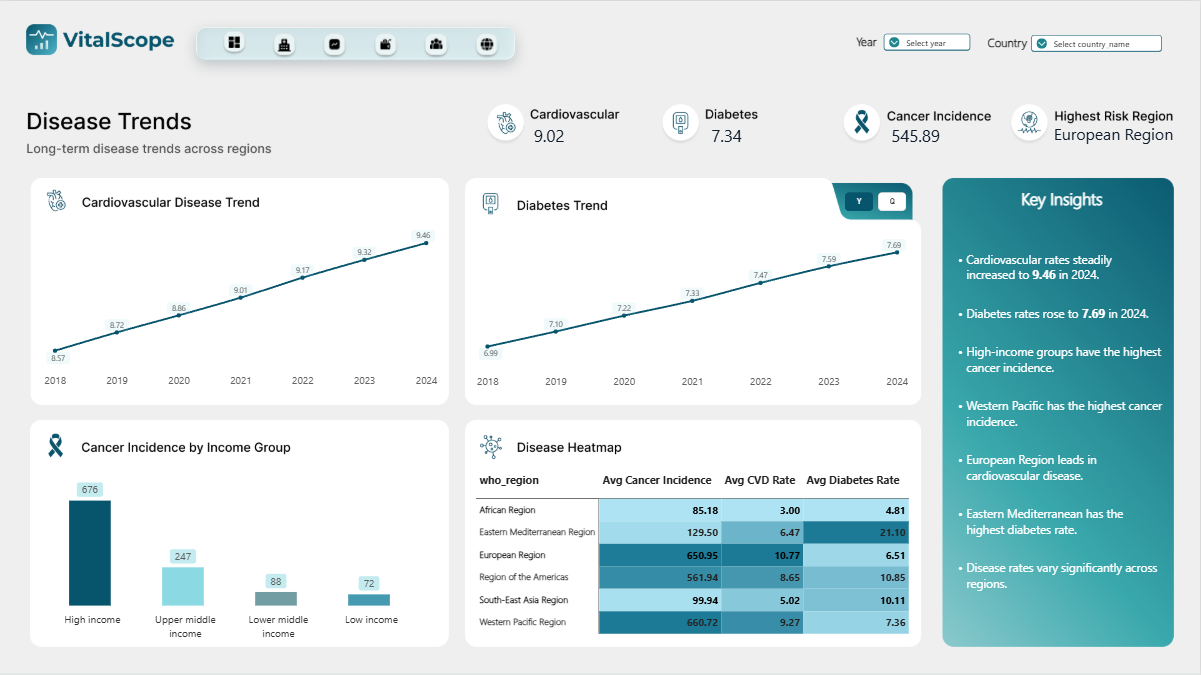

What the dashboard file says about the page in this screenshot:
{"tool":"powerbi","page":{"name":"Disease Trends","canvas":[1920,1080],"ordinal":5},"visuals":[{"type":"actionButton","box":[358.8,48.9,33.8,33.1],"z":0},{"type":"actionButton","box":[438,50,34,34],"z":1},{"type":"actionButton","box":[518.9,51,34,34],"z":2},{"type":"actionButton","box":[600.6,51,34,34],"z":3},{"type":"actionButton","box":[680.5,51,35.7,34],"z":4},{"type":"actionButton","box":[762.2,51,34,34],"z":5},{"type":"listSlicer","fields":{"Values":["dim_country.country_name"]},"box":[1634.7,40.8,240.8,71],"z":6},{"type":"textbox","box":[1580,53.3,70,25],"z":7},{"type":"textbox","box":[1370.2,52.6,57.9,38.6],"z":8},{"type":"listSlicer","fields":{"Values":["dim_date.year"]},"box":[1398.2,38.6,170.2,70.2],"z":9},{"type":"advancedSlicerVisual","fields":{"Values":["trends.trends"]},"box":[1352,306,98,30],"z":10},{"type":"cardVisual","fields":{"Data":["_Measures.Avg CVD Rate"]},"box":[838.8,196.2,148.8,38.8],"z":11},{"type":"cardVisual","fields":{"Data":["_Measures.Avg Diabetes Rate"]},"box":[1121.2,196.2,148.8,38.8],"z":12},{"type":"cardVisual","fields":{"Data":["_Measures.Avg Cancer Incidence"]},"box":[1410,196.2,148.8,38.8],"z":13},{"type":"cardVisual","fields":{"Data":["_Measures.Highest Risk Region"]},"box":[1670,194,234,38],"z":14},{"type":"textbox","box":[1518,382,342,630],"z":15},{"type":"textbox","box":[1633.2,297.5,189.3,114.3],"z":16},{"type":"lineChart","fields":{"Category":["dim_date.year"],"Y":["_Measures.Avg CVD Rate"]},"box":[54,336,662,304],"z":17},{"type":"lineChart","fields":{"Category":["dim_date.year"],"Y":["_Measures.Avg Diabetes Rate"]},"box":[746.7,355,723.3,285],"z":18},{"type":"columnChart","fields":{"Category":["dim_country.income_group"],"Y":["_Measures.Avg Cancer Incidence"]},"box":[0,742,707.1,299],"z":19},{"type":"pivotTable","fields":{"Rows":["dim_country.who_region"],"Values":["_Measures.Avg Cancer Incidence","_Measures.Avg CVD Rate","_Measures.Avg Diabetes Rate"]},"box":[746,734,724.8,306],"z":20}]}

Visuals, with their boxes in screenshot pixels (x1, y1, x2, y2), scaled from the page's 1920x1080 canvas onto the 1201x675 screenshot:
actionButton: [left=224, top=31, right=246, bottom=51]
actionButton: [left=274, top=31, right=295, bottom=52]
actionButton: [left=325, top=32, right=346, bottom=53]
actionButton: [left=376, top=32, right=397, bottom=53]
actionButton: [left=426, top=32, right=448, bottom=53]
actionButton: [left=477, top=32, right=498, bottom=53]
listSlicer - dim_country.country_name: [left=1023, top=26, right=1173, bottom=70]
textbox: [left=988, top=33, right=1032, bottom=49]
textbox: [left=857, top=33, right=893, bottom=57]
listSlicer - dim_date.year: [left=875, top=24, right=981, bottom=68]
advancedSlicerVisual - trends.trends: [left=846, top=191, right=907, bottom=210]
cardVisual - _Measures.Avg CVD Rate: [left=525, top=123, right=618, bottom=147]
cardVisual - _Measures.Avg Diabetes Rate: [left=701, top=123, right=794, bottom=147]
cardVisual - _Measures.Avg Cancer Incidence: [left=882, top=123, right=975, bottom=147]
cardVisual - _Measures.Highest Risk Region: [left=1045, top=121, right=1191, bottom=145]
textbox: [left=950, top=239, right=1163, bottom=632]
textbox: [left=1022, top=186, right=1140, bottom=257]
lineChart - dim_date.year x _Measures.Avg CVD Rate: [left=34, top=210, right=448, bottom=400]
lineChart - dim_date.year x _Measures.Avg Diabetes Rate: [left=467, top=222, right=920, bottom=400]
columnChart - dim_country.income_group x _Measures.Avg Cancer Incidence: [left=0, top=464, right=442, bottom=651]
pivotTable - dim_country.who_region x _Measures.Avg Cancer Incidence: [left=467, top=459, right=920, bottom=650]
